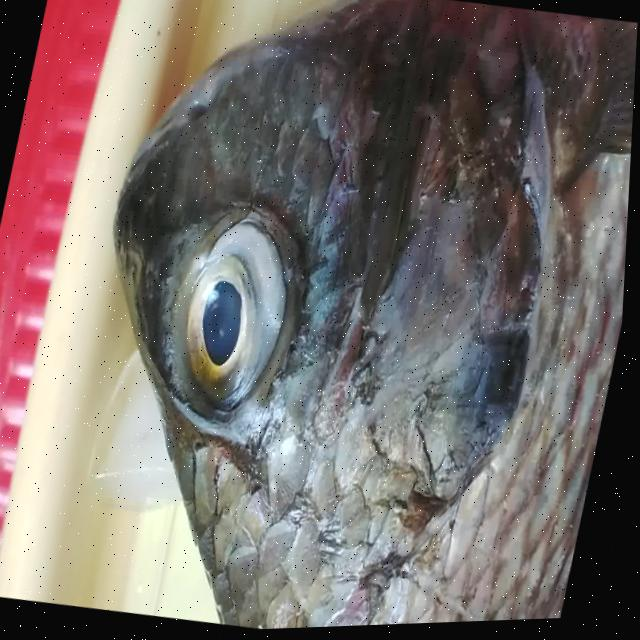Fresh: (134, 177, 333, 455)
